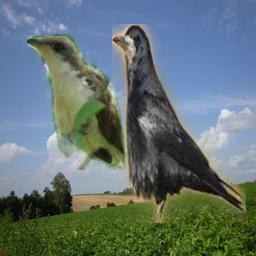Crow: (112, 24, 246, 223)
Cuckoo: (27, 33, 127, 170)
